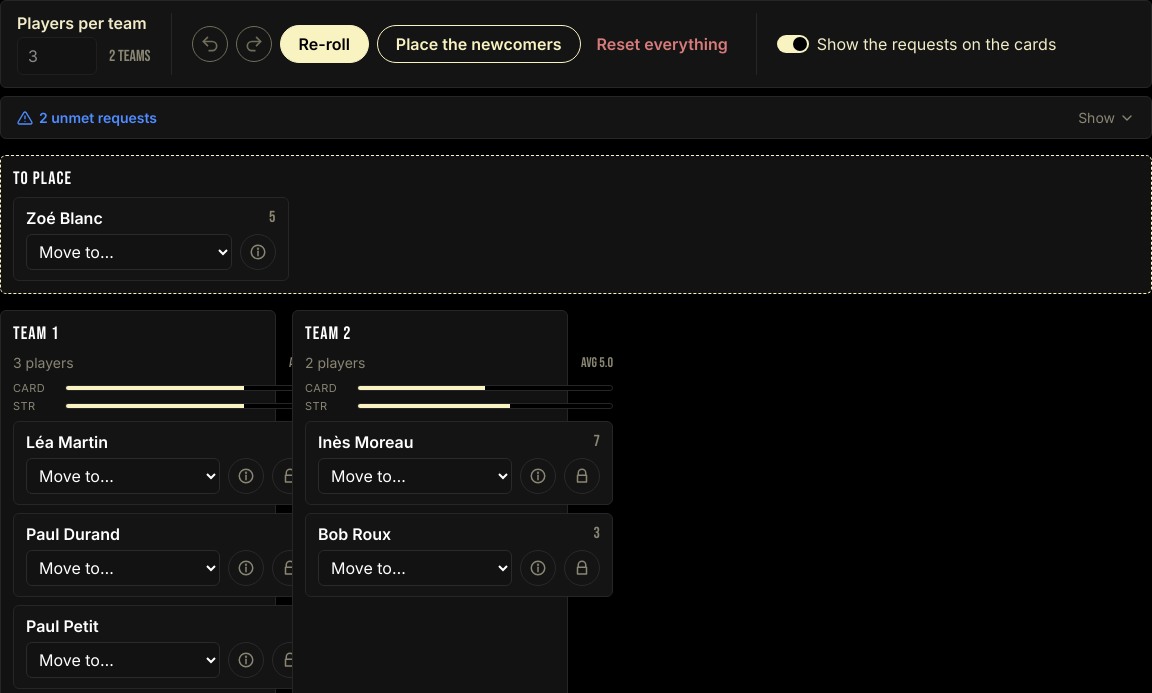
Test case: BuilderTeams › toolbar and unmet requests › counts the unmet requests and shows them on demand
Expected: the text "Léa Martin wanted to be with Inès Moreau" is not shown
Click the button "2 unmet requests Show" at (98, 118), box [17,105,1135,130]
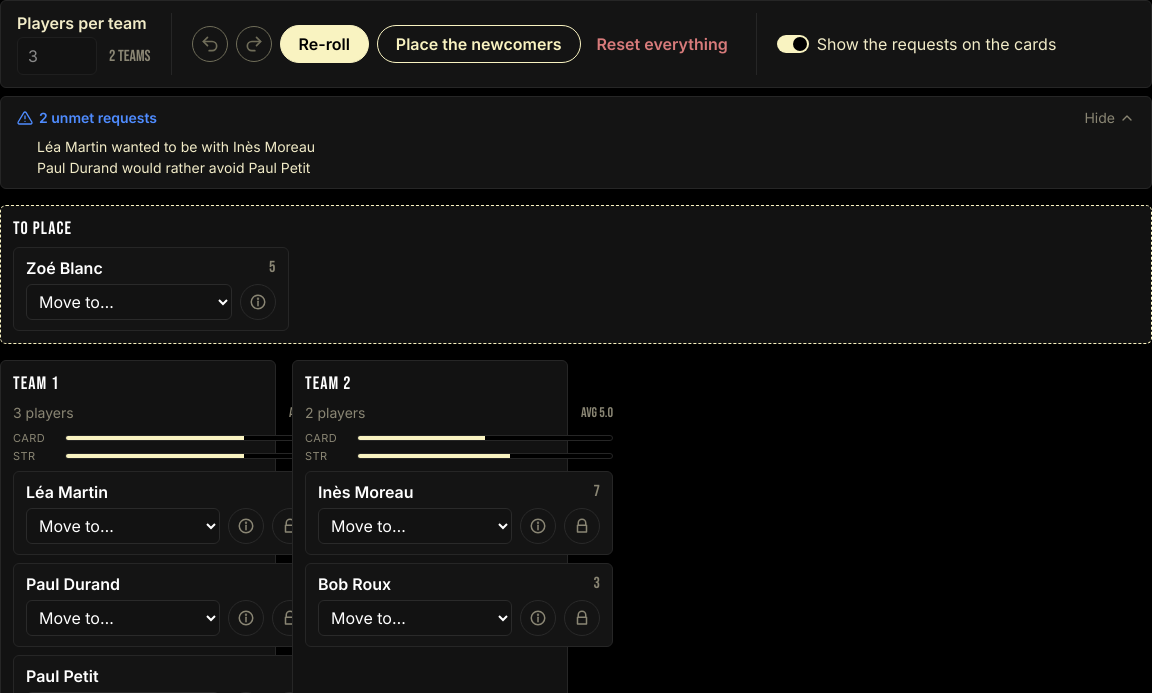
Now the button "2 unmet requests Hide" is expanded, box [17,105,1135,130]
Now the list item "Léa Martin wanted to be with Inès Moreau" is shown, box [37,138,315,155]
